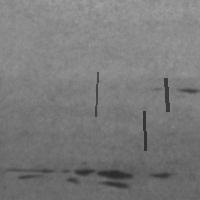inclusion: (1, 165, 136, 190), (147, 167, 174, 183), (167, 83, 200, 95), (93, 70, 99, 118), (163, 76, 169, 113), (142, 109, 147, 152)
